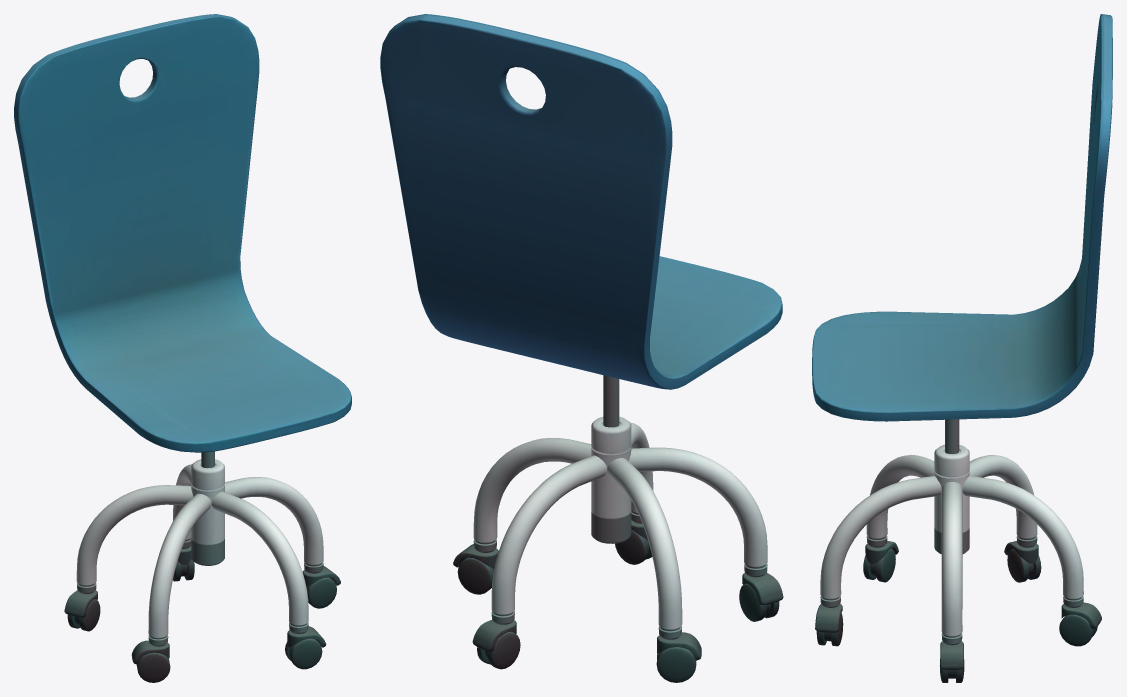
File: chair.glb
The picture shows the model from 3 angles, left to right: view 1: azimuth 30°, elevation 25°; view 2: azimuth 150°, elevation 25°; view 3: azimuth 270°, elevation 25°; orthographic projection. The views are drawn at different scales.
Visible parts, largest first — view 1: chair.1; view 2: chair.1; view 3: chair.1.
Boxes of the visible parts, x1,y1,x2,y2 form: chair.1: (14, 14, 351, 682); chair.1: (380, 14, 783, 682); chair.1: (812, 14, 1112, 682).
Size of the model in its own units: 0.2296 by 0.482 by 0.2298.
1 material, 1 textured.
